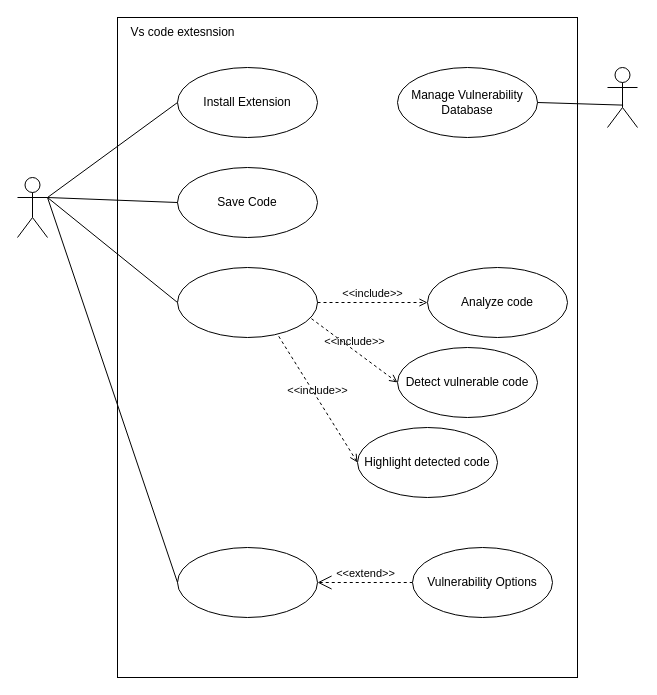
Some shapes in this 657 by 695 pixel diagram are drawn without their labels. Each missing label, with the centre of its shape:
"Admin" goes at (622,97).
"Configuration" goes at (247,582).
"User" goes at (32,207).
"View Detected Vulnerabilities" goes at (247,302).
